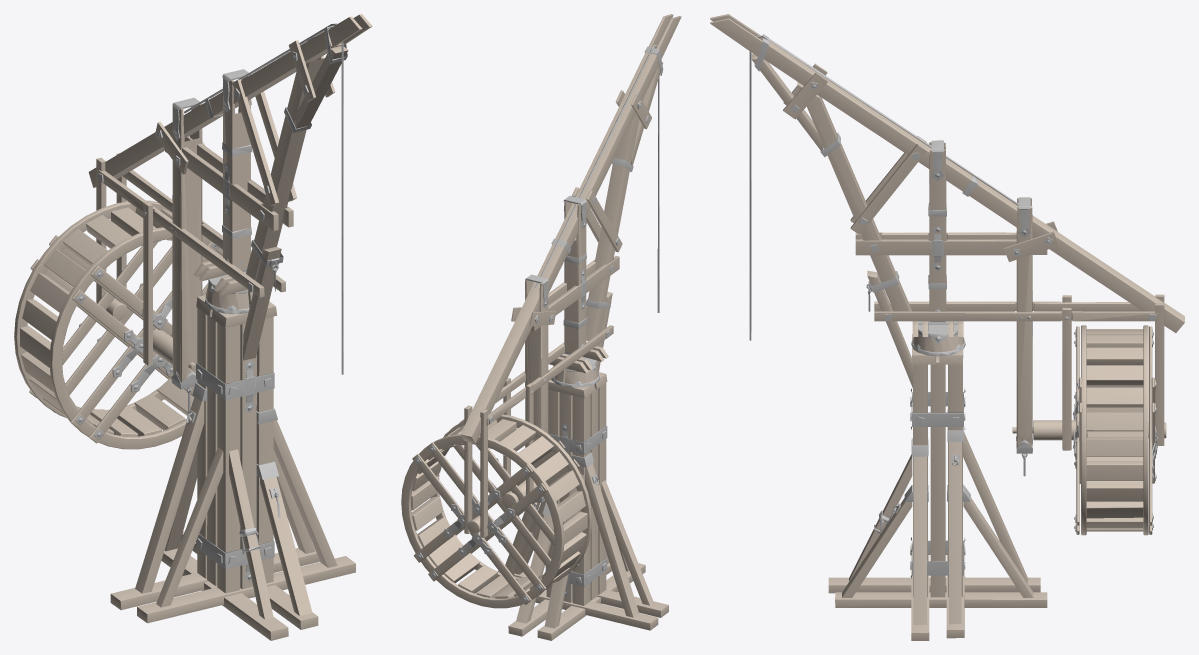
Rendered from build_crane_01.FBX.
The picture shows the model from 3 angles, left to right: view 1: azimuth 30°, elevation 25°; view 2: azimuth 150°, elevation 25°; view 3: azimuth 270°, elevation 25°; orthographic projection. The views are drawn at different scales.
Visible parts, largest first — view 1: build_crane_01, build_crane_01_wheel; view 2: build_crane_01, build_crane_01_wheel; view 3: build_crane_01, build_crane_01_wheel.
Part boxes in pixels (x1=…): build_crane_01: x1=88, y1=14, x2=372, y2=640; build_crane_01_wheel: x1=14, y1=200, x2=222, y2=449; build_crane_01: x1=460, y1=14, x2=681, y2=640; build_crane_01_wheel: x1=401, y1=414, x2=592, y2=608; build_crane_01: x1=710, y1=14, x2=1184, y2=640; build_crane_01_wheel: x1=1012, y1=325, x2=1166, y2=535.
Bounding box in the file's own units: 633 × 1857 × 1376.
